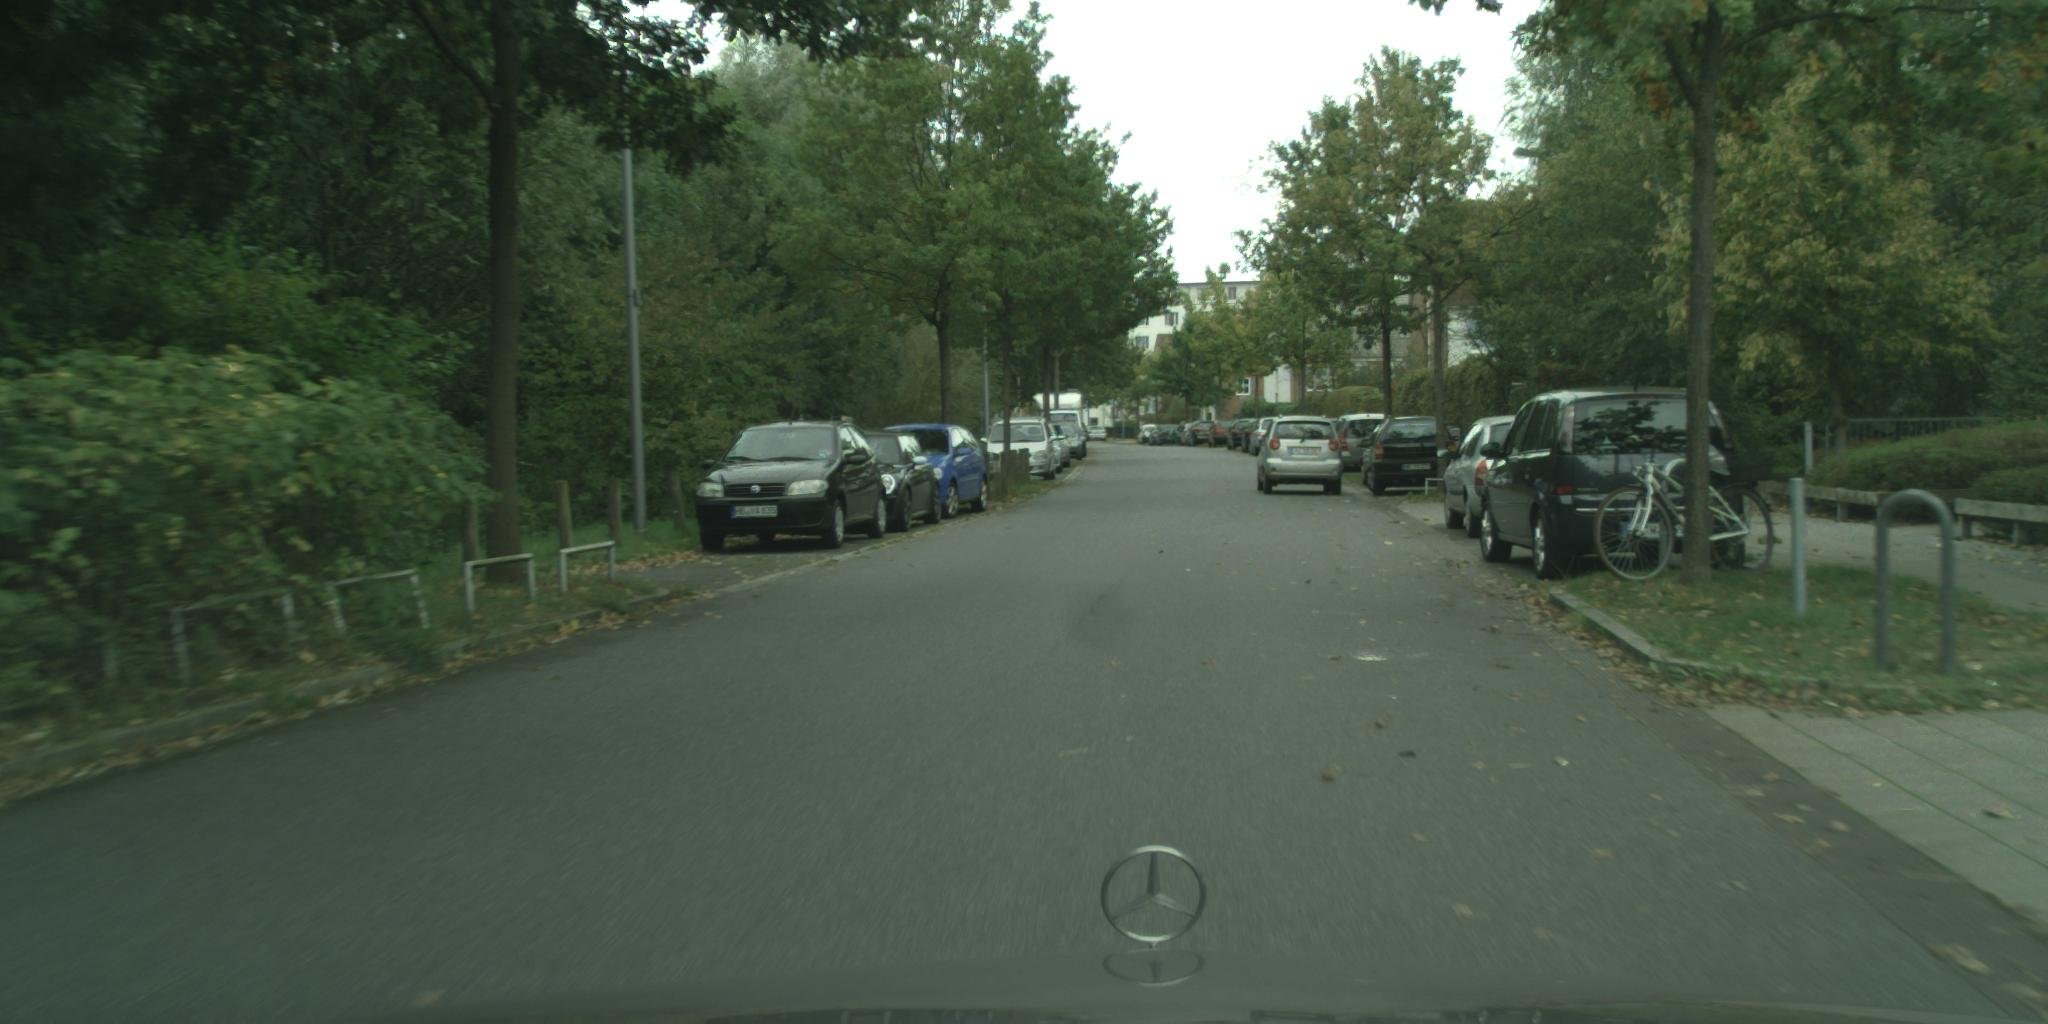bicycle: (1593, 428, 1778, 586)
car: (1479, 385, 1748, 583), (695, 421, 889, 555), (1438, 415, 1529, 541), (876, 423, 993, 520), (856, 431, 944, 534), (1361, 415, 1462, 502), (1256, 415, 1344, 498)
